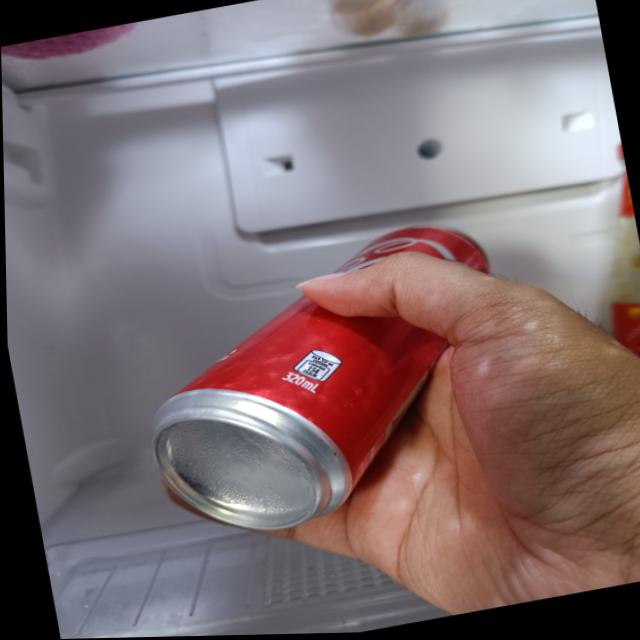coke: (107, 211, 536, 554)
